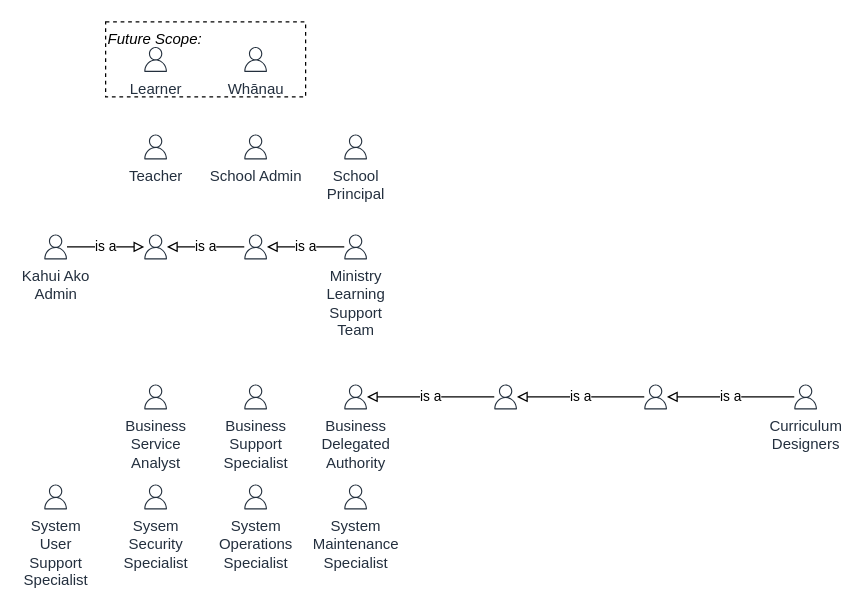
The diagram is 863 pixels wide and 613 high, and some of its shapes have lost their labels. Here are the shapes that lost their labels. From the top down, the centre of each, then its label:
At point (155, 246): "School Delegated User".
At point (255, 246): "Sector SMEs".
At point (505, 396): "System Delegated Maintainer".
At point (655, 396): "System Media Maintainer".
